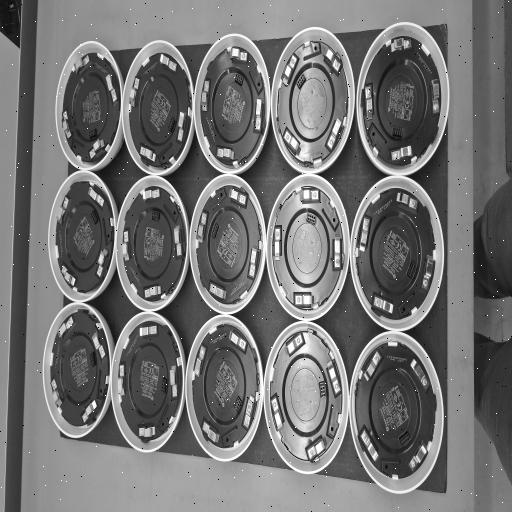konnektor: (399, 429, 411, 448), (232, 394, 242, 416), (406, 259, 417, 279), (296, 72, 306, 89), (211, 222, 220, 240), (306, 212, 317, 226), (318, 380, 326, 399), (234, 72, 244, 86), (392, 126, 403, 138), (161, 377, 168, 395), (90, 209, 98, 224), (168, 117, 175, 132), (152, 210, 160, 221), (90, 352, 96, 366), (89, 129, 97, 139)
yayli: (411, 357, 430, 392), (408, 441, 429, 472), (360, 426, 378, 462), (326, 117, 344, 153), (326, 359, 342, 398), (322, 45, 342, 76), (304, 435, 326, 463), (282, 52, 300, 86), (362, 350, 381, 382), (284, 332, 306, 358), (282, 128, 301, 158), (270, 392, 284, 432), (242, 394, 256, 431), (358, 216, 371, 254), (422, 255, 435, 293), (228, 328, 248, 352), (396, 191, 418, 212), (202, 420, 220, 445), (390, 145, 412, 164), (194, 344, 206, 378), (248, 244, 260, 278), (92, 330, 106, 359), (373, 295, 393, 315), (390, 37, 412, 55), (364, 83, 374, 122), (106, 72, 118, 104), (82, 399, 98, 423), (60, 265, 76, 289), (228, 187, 247, 207), (56, 196, 69, 225), (88, 186, 105, 208), (72, 54, 89, 76), (97, 246, 109, 277), (58, 315, 74, 338), (51, 378, 63, 408), (332, 235, 342, 271), (89, 138, 105, 160), (198, 210, 209, 242), (299, 187, 319, 204), (431, 80, 440, 116), (294, 292, 314, 308), (176, 112, 186, 143), (160, 54, 177, 72), (209, 282, 226, 300), (130, 78, 140, 108), (169, 363, 178, 396), (140, 144, 156, 162), (173, 225, 182, 257), (201, 80, 210, 112), (254, 97, 262, 132), (230, 47, 248, 62), (141, 187, 160, 201), (144, 285, 161, 300), (216, 147, 234, 161), (62, 112, 71, 140), (118, 363, 125, 397), (140, 324, 158, 337), (274, 228, 281, 259), (138, 426, 156, 438), (122, 242, 129, 260), (313, 157, 322, 168)
